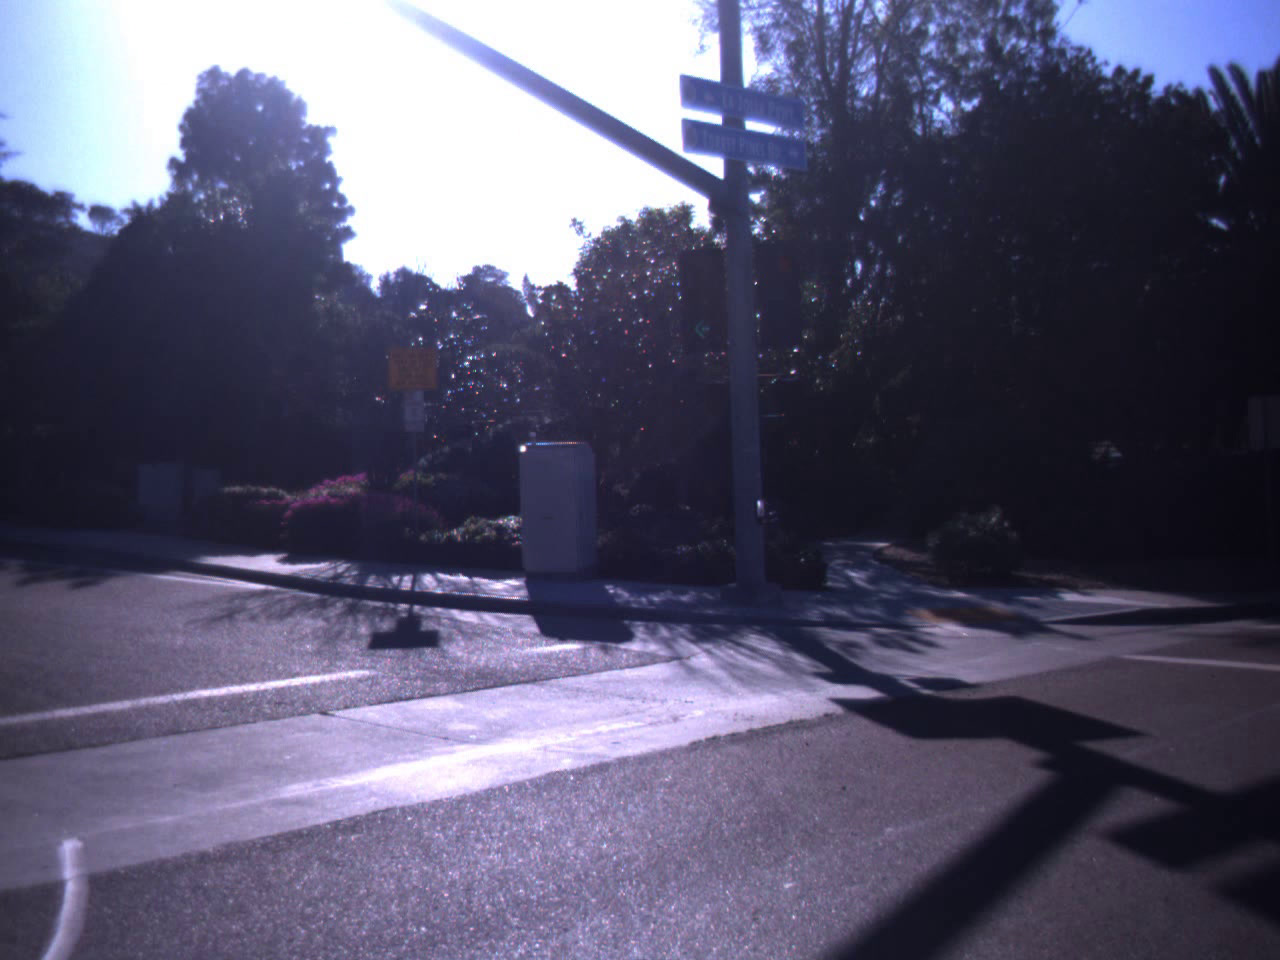go: (676, 265, 730, 345)
